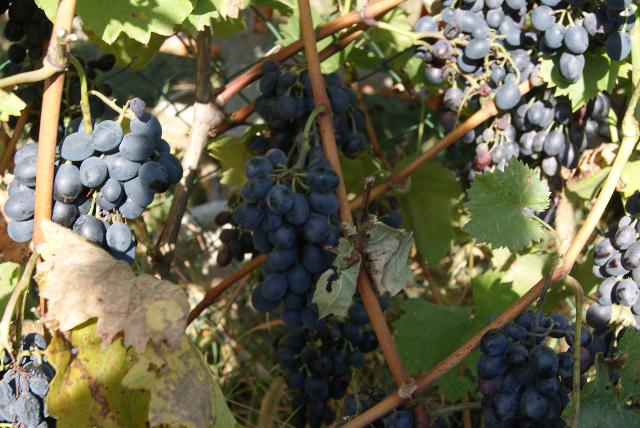grapes: (415, 0, 634, 180), (4, 99, 182, 261), (232, 149, 340, 310), (275, 295, 379, 428), (476, 310, 574, 428), (585, 191, 640, 356), (255, 60, 315, 154), (324, 72, 366, 159)
